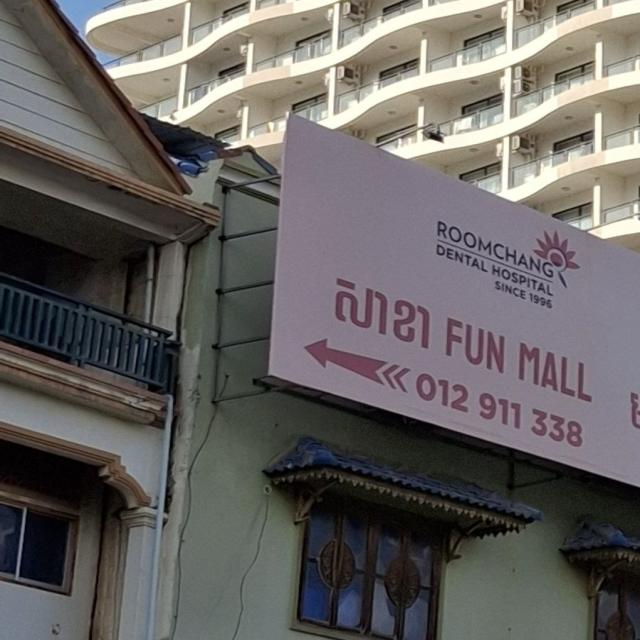Yolov11_80vkh: (310, 260, 451, 368)
